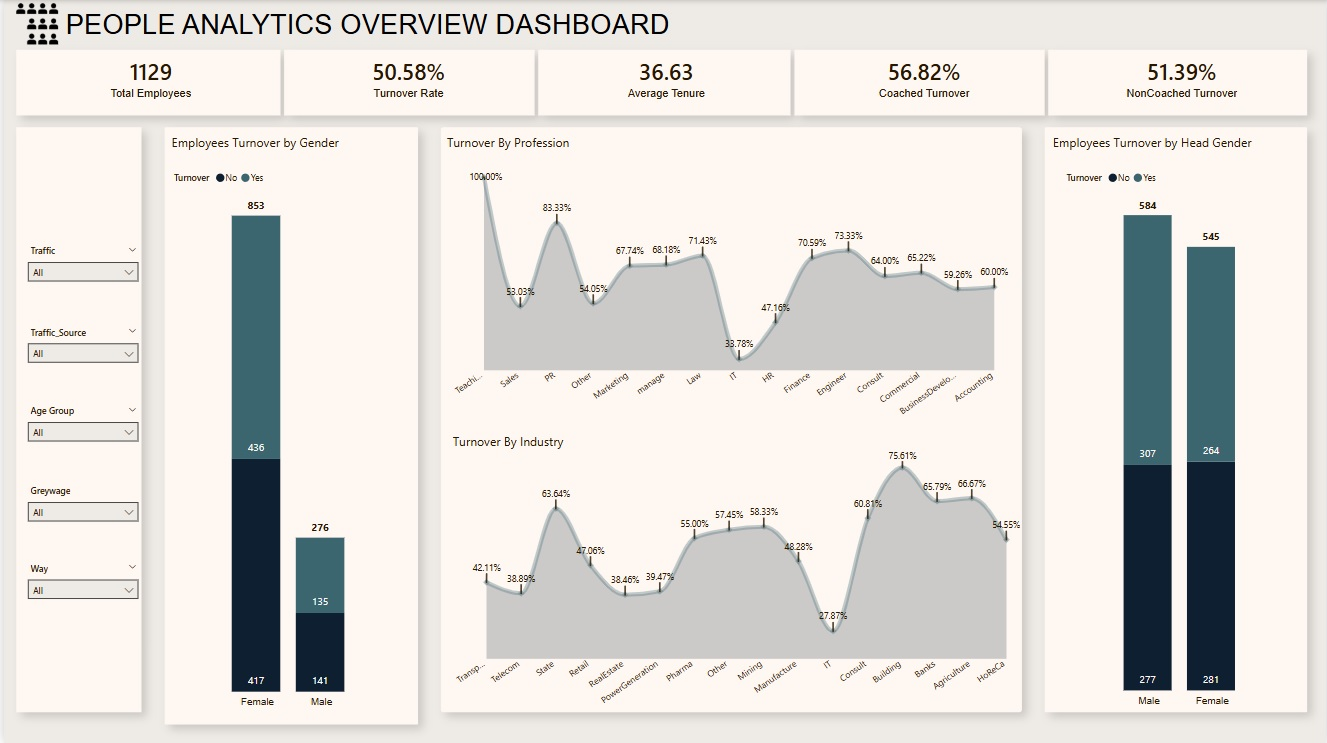

The dashboard page shown, as its layout file describes it:
{"tool":"powerbi","page":{"name":"Page 1","canvas":[1600,900],"ordinal":0},"visuals":[{"type":"cardVisual","fields":{"Data":["KPI Table.Total Employees","KPI Table.Turnover Rate","KPI Table.Average Tenure","KPI Table.Coached Turnover","KPI Table.NonCoached Turnover"]},"box":[26.2,53.8,1552.3,80],"z":0},{"type":"areaChart","fields":{"Category":["Hutorcova Data.Profession"],"Y":["KPI Table.Turnover Rate"]},"box":[527.7,186.2,703.1,336.9],"z":1000},{"type":"areaChart","fields":{"Category":["Hutorcova Data.Industry"],"Y":["KPI Table.Turnover Rate"]},"box":[527.7,523.1,716.9,350.8],"z":2000},{"type":"columnChart","fields":{"Category":["Gender.Gender"],"Y":["CountNonNull(Hutorcova Data.Employee_Number)"],"Series":["Hutorcova Data.Turnover"]},"box":[190.5,186.2,309.2,689.2],"z":3000},{"type":"columnChart","fields":{"Y":["CountNonNull(Hutorcova Data.Employee_Number)"],"Series":["Hutorcova Data.Turnover"],"Category":["Gender.Head_gender"]},"box":[1270.8,186.2,306.2,687.7],"z":4000},{"type":"textbox","box":[527.7,161.5,180,24.6],"z":5000},{"type":"textbox","box":[543.1,523.1,216.9,24.6],"z":6000},{"type":"textbox","box":[203.1,161.5,220,24.6],"z":7000},{"type":"textbox","box":[1269.2,161.5,307.7,24.6],"z":8000},{"type":"slicer","fields":{"Values":["Hutorcova Data.Way"]},"box":[24.9,681.5,143.1,64.6],"z":9000},{"type":"slicer","fields":{"Values":["Hutorcova Data.Greywage"]},"box":[24.9,587.7,143.1,63.1],"z":10000},{"type":"slicer","fields":{"Values":["Hutorcova Data.Traffic"]},"box":[24.9,296.9,143.1,66.2],"z":11000},{"type":"slicer","fields":{"Values":["Hutorcova Data.Traffic_Source"]},"box":[24.9,395.4,143.1,64.6],"z":12000},{"type":"slicer","fields":{"Values":["Age.Age Group"]},"box":[24.9,490.8,143.1,64.6],"z":13000}]}

Visuals, with their boxes in screenshot pixels (x1, y1, x2, y2), scaled from the page's 1600x900 canvas onto the 1327x743 screenshot:
cardVisual - KPI Table.Total Employees x KPI Table.Turnover Rate: box=[22, 44, 1309, 110]
areaChart - Hutorcova Data.Profession x KPI Table.Turnover Rate: box=[438, 154, 1021, 432]
areaChart - Hutorcova Data.Industry x KPI Table.Turnover Rate: box=[438, 432, 1032, 721]
columnChart - Gender.Gender x CountNonNull(Hutorcova Data.Employee_Number): box=[158, 154, 414, 723]
columnChart - CountNonNull(Hutorcova Data.Employee_Number) x Hutorcova Data.Turnover: box=[1054, 154, 1308, 721]
textbox: box=[438, 133, 587, 154]
textbox: box=[450, 432, 630, 452]
textbox: box=[168, 133, 351, 154]
textbox: box=[1053, 133, 1308, 154]
slicer - Hutorcova Data.Way: box=[21, 563, 139, 616]
slicer - Hutorcova Data.Greywage: box=[21, 485, 139, 537]
slicer - Hutorcova Data.Traffic: box=[21, 245, 139, 300]
slicer - Hutorcova Data.Traffic_Source: box=[21, 326, 139, 380]
slicer - Age.Age Group: box=[21, 405, 139, 459]
